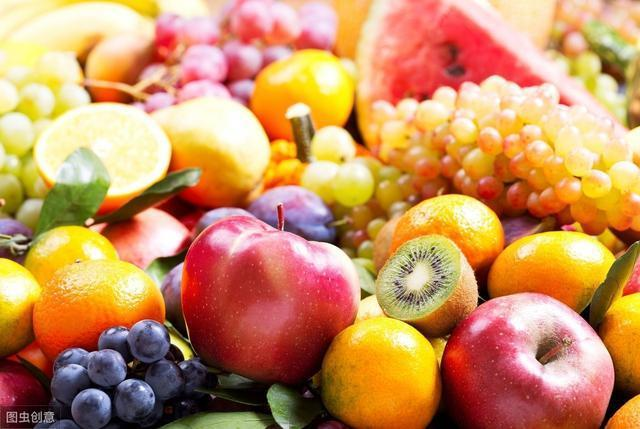apple: (176, 210, 363, 382), (437, 290, 621, 425)
